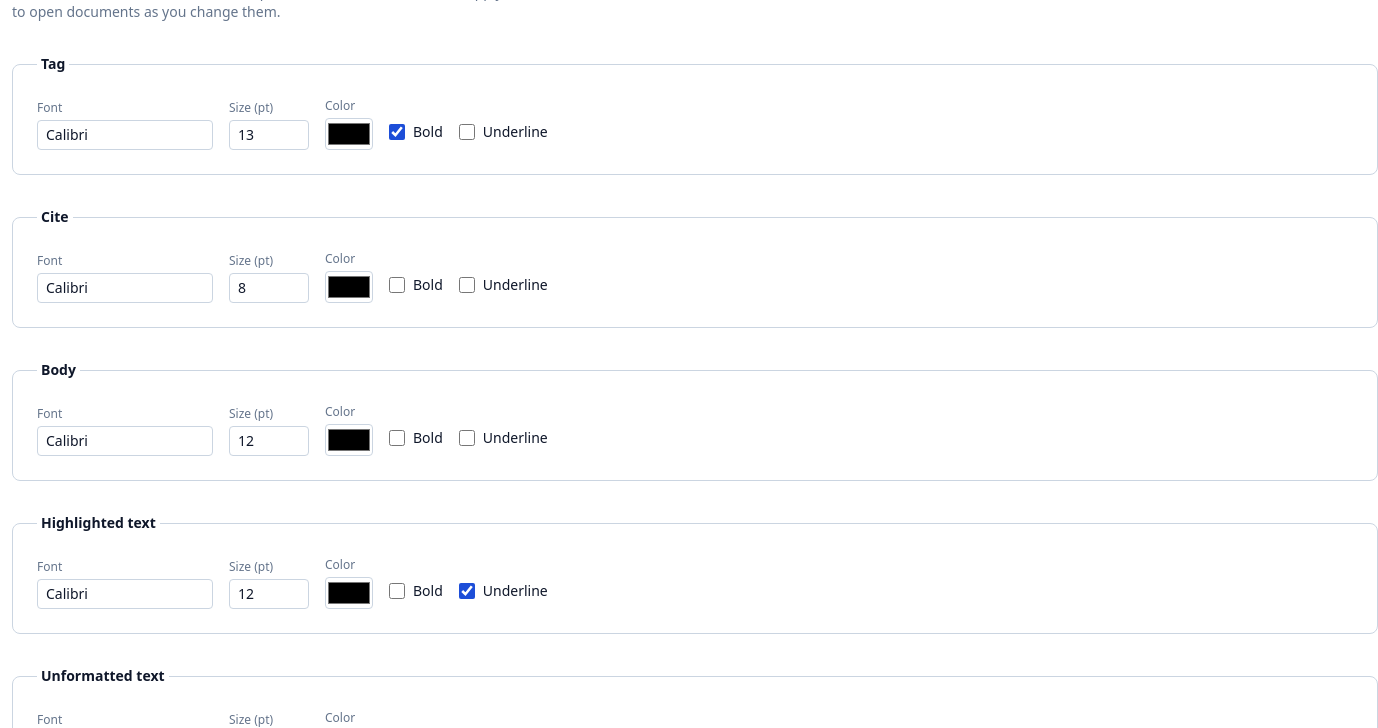
it: FormattingSettingsPanel › writes a size edit back as a point string, live
The width and height of the screenshot is (1378, 728).
Replace the text in the 3rd number field labelled "Size (pt)" with "14" at [269, 441], box [229,426,309,456]
(page scrolled)
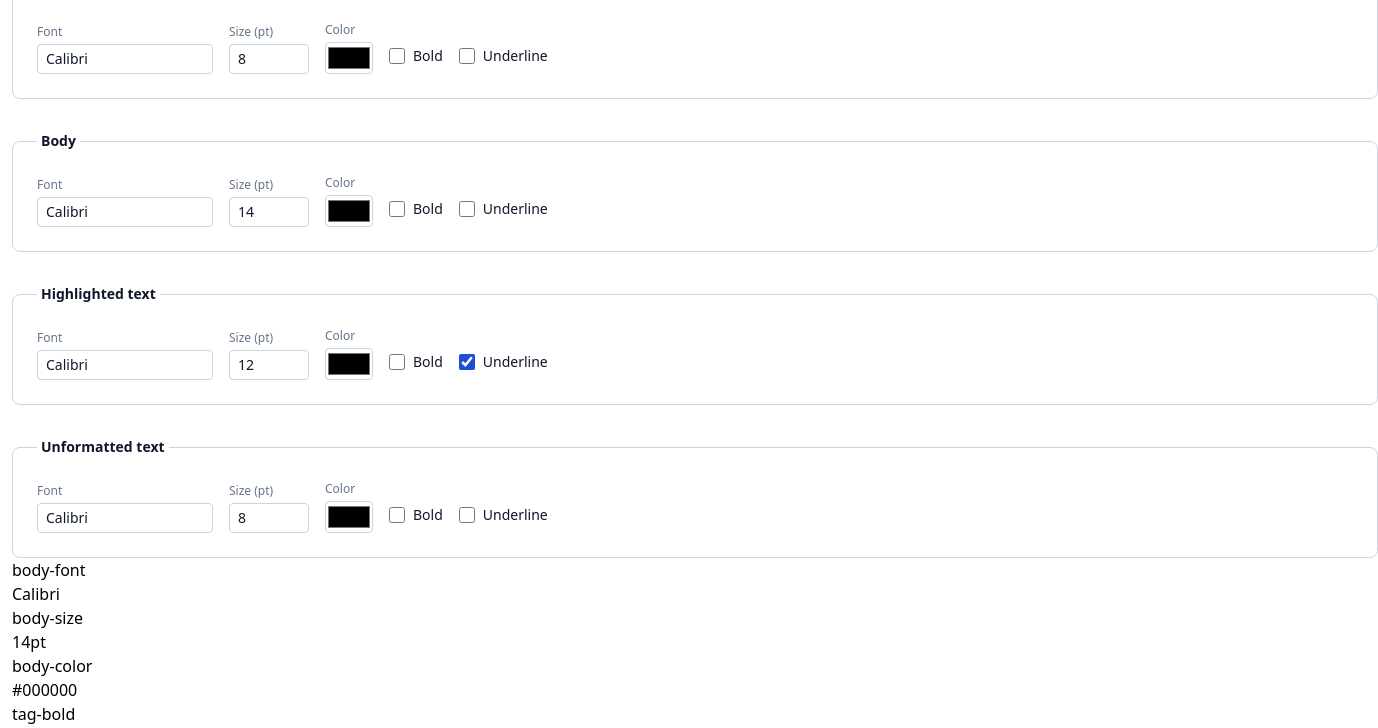
Expected: the text with test id "consume-body-size" reads "14pt", [12,631,46,653]
